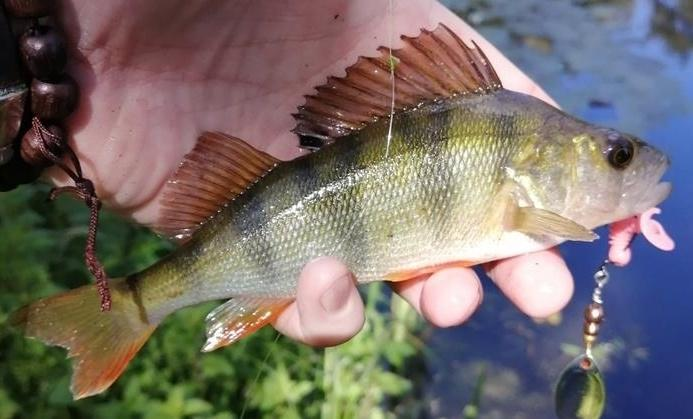Pangasius: (19, 17, 670, 399)
